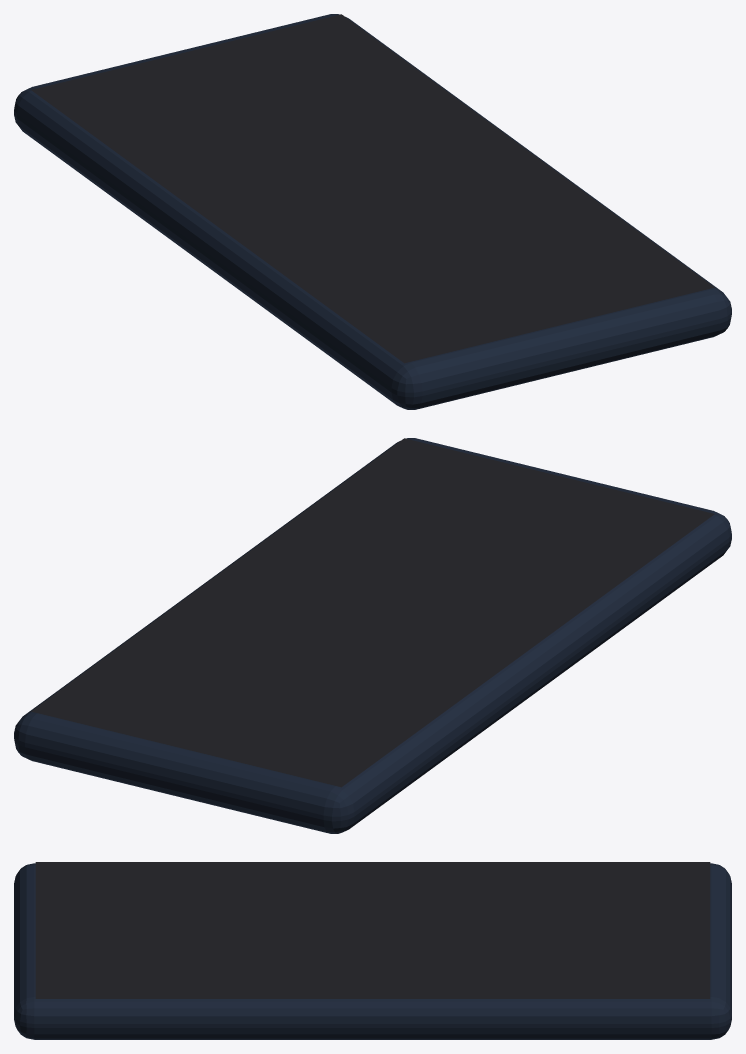
The model's file is motorola-razr-model-168-flagship-2022.glb.
The picture shows the model from 3 angles, top to bottom: view 1: azimuth 30°, elevation 25°; view 2: azimuth 150°, elevation 25°; view 3: azimuth 270°, elevation 25°; orthographic projection. The views are drawn at different scales.
Visible parts, largest first — view 1: Phone_Screen, Phone_Body; view 2: Phone_Screen, Phone_Body; view 3: Phone_Screen, Phone_Body.
Boxes of the visible parts, x1,y1,x2,y2 form: Phone_Screen: (31, 14, 714, 363); Phone_Body: (14, 14, 731, 409); Phone_Screen: (31, 438, 714, 787); Phone_Body: (14, 438, 731, 833); Phone_Screen: (35, 862, 710, 998); Phone_Body: (14, 863, 731, 1039).
Size of the model in its own units: 0.0769 by 0.01 by 0.1567.
